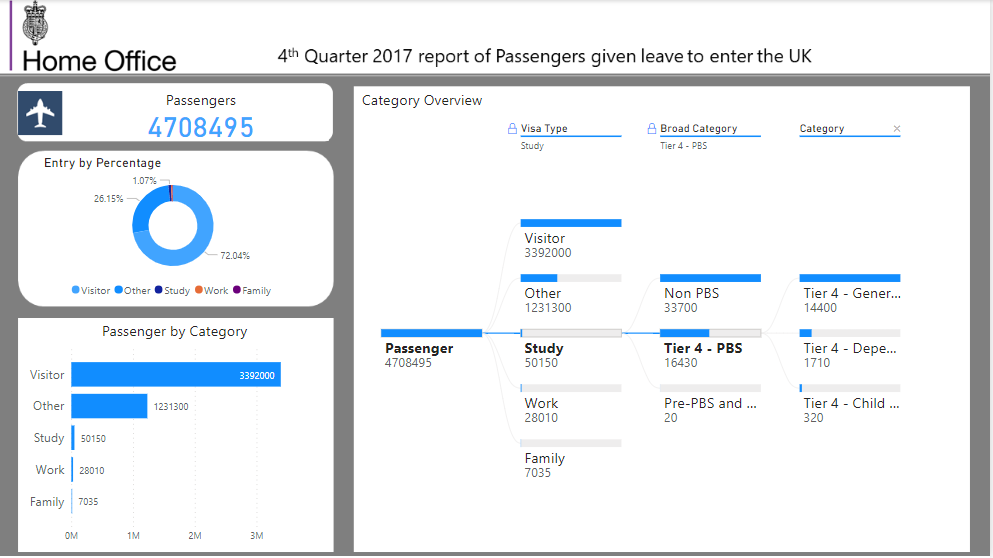

The page's visual inventory and layout, read from the dashboard file:
{"tool":"powerbi","page":{"name":"Page 1","canvas":[1280,720],"ordinal":0},"visuals":[{"type":"card","title":"Passengers","fields":{"Values":["Sum(Table ad_02_q   Passengers give.2017 Q4)"]},"box":[96.4,114.8,330.2,66.6],"z":0},{"type":"clusteredBarChart","title":"Passenger by Category","fields":{"Category":["Table ad_02_q   Passengers give.Type"],"Y":["Sum(Table ad_02_q   Passengers give.2017 Q4)"]},"box":[30.3,412.9,396.4,295.9],"z":1000},{"type":"donutChart","title":"Entry by Percentage","fields":{"Y":["Sum(Table ad_02_q   Passengers give.2017 Q4)"],"Category":["Table ad_02_q   Passengers give.Type"]},"box":[53.9,199.8,343,192.8],"z":2000},{"type":"decompositionTreeVisual","title":"Category Overview","fields":{"ExplainBy":["Table ad_02_q   Passengers give.Type","Table ad_02_q   Passengers give.Broad Category","Table ad_02_q   Passengers give.Category"],"Analyze":["Sum(Table ad_02_q   Passengers give.2017 Q4)"]},"box":[464.9,114.8,785.2,593.9],"z":4000}]}

Visuals, with their boxes in screenshot pixels (x1, y1, x2, y2), scaled from the page's 1280x720 canvas onto the 993x558 screenshot:
"Passengers" card: BBox(75, 89, 331, 141)
"Passenger by Category" clusteredBarChart: BBox(24, 320, 331, 549)
"Entry by Percentage" donutChart: BBox(42, 155, 308, 304)
"Category Overview" decompositionTreeVisual: BBox(361, 89, 970, 549)
